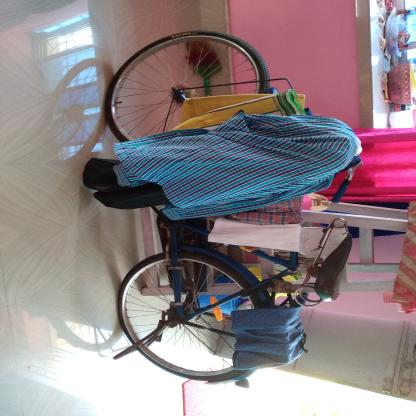bike: (93, 30, 360, 390)
